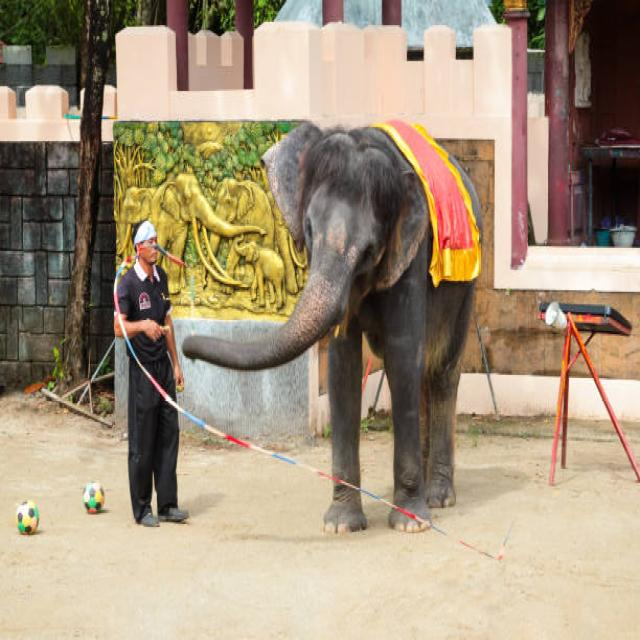Elephant: (249, 131, 497, 531)
